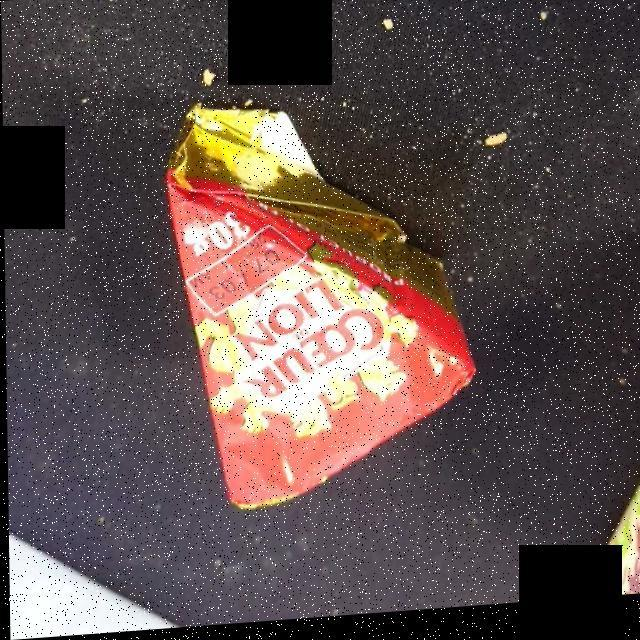cheese: (168, 112, 469, 504)
